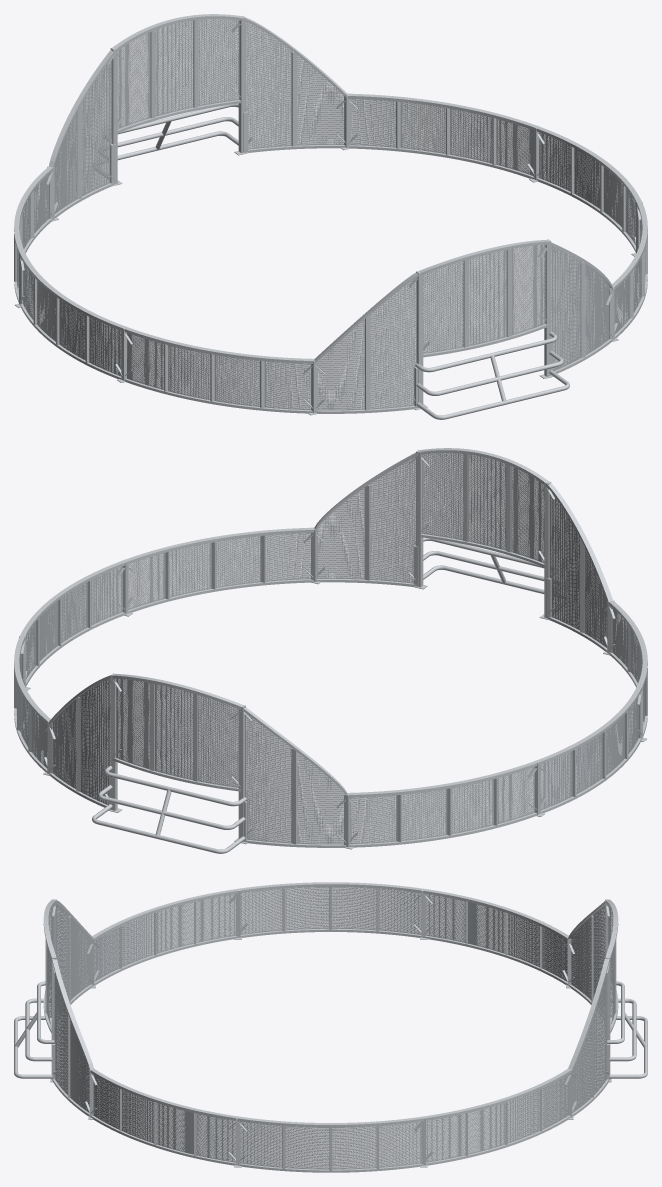
File: panna-kids-o1.glb
3 views of the same model, one above another, from view 1: azimuth 30°, elevation 25°; view 2: azimuth 150°, elevation 25°; view 3: azimuth 270°, elevation 25° (orthographic). The views are drawn at different scales.
Parts seen in each view (by area): view 1: PO3 0 blacha, PO3 3.141592653589793 blacha, PO2 3.141592653589793 1 blacha, PO2 0 1 blacha, PO1 3.141592653589793 0 blacha, PO1 0 0 blacha, PO2 3.141592653589793 -1 blacha, PO2 0 -1 blacha, PO1 0 1 blacha, PO1 3.141592653589793 1 blacha, PO1 0 2 blacha, PO1 3.141592653589793 2 blacha (+25 smaller); view 2: PO3 3.141592653589793 blacha, PO3 0 blacha, PO2 0 -1 blacha, PO2 3.141592653589793 -1 blacha, PO1 3.141592653589793 2 blacha, PO1 0 2 blacha, PO2 0 1 blacha, PO2 3.141592653589793 1 blacha, PO1 0 1 blacha, PO1 3.141592653589793 1 blacha, PO1 0 0 blacha, PO1 3.141592653589793 0 blacha (+25 smaller); view 3: PO1 0 1 blacha, PO1 3.141592653589793 1 blacha, PO1 0 2 blacha, PO1 0 0 blacha, PO1 3.141592653589793 2 blacha, PO1 3.141592653589793 0 blacha, PO2 3.141592653589793 -1 blacha, PO2 0 1 blacha, PO2 0 -1 blacha, PO2 3.141592653589793 1 blacha, PO1 0 1 profil gorny, PO1 3.141592653589793 1 profil gorny (+18 smaller).
Part boxes in pixels (left/top/right/bottom): PO3 0 blacha: left=117, top=15, right=239, bottom=128; PO3 3.141592653589793 blacha: left=423, top=244, right=545, bottom=353; PO2 3.141592653589793 1 blacha: left=318, top=275, right=416, bottom=410; PO2 0 1 blacha: left=246, top=21, right=344, bottom=149; PO1 3.141592653589793 0 blacha: left=127, top=333, right=311, bottom=410; PO1 0 0 blacha: left=351, top=95, right=533, bottom=175; PO2 3.141592653589793 -1 blacha: left=551, top=245, right=609, bottom=370; PO2 0 -1 blacha: left=54, top=60, right=112, bottom=213; PO1 0 1 blacha: left=539, top=132, right=638, bottom=245; PO1 3.141592653589793 1 blacha: left=23, top=263, right=121, bottom=376; PO1 0 2 blacha: left=614, top=218, right=645, bottom=334; PO1 3.141592653589793 2 blacha: left=16, top=169, right=49, bottom=291; PO3 3.141592653589793 blacha: left=422, top=453, right=545, bottom=562; PO3 0 blacha: left=116, top=674, right=238, bottom=787; PO2 0 -1 blacha: left=245, top=714, right=344, bottom=844; PO2 3.141592653589793 -1 blacha: left=317, top=457, right=415, bottom=583; PO1 3.141592653589793 2 blacha: left=350, top=767, right=534, bottom=844; PO1 0 2 blacha: left=128, top=530, right=310, bottom=609; PO2 0 1 blacha: left=52, top=679, right=110, bottom=804; PO2 3.141592653589793 1 blacha: left=549, top=485, right=610, bottom=647; PO1 0 1 blacha: left=24, top=566, right=122, bottom=679; PO1 3.141592653589793 1 blacha: left=540, top=697, right=638, bottom=810; PO1 0 0 blacha: left=16, top=647, right=47, bottom=768; PO1 3.141592653589793 0 blacha: left=612, top=602, right=645, bottom=725; PO1 0 1 blacha: left=240, top=1120, right=421, bottom=1169; PO1 3.141592653589793 1 blacha: left=240, top=883, right=421, bottom=934; PO1 0 2 blacha: left=93, top=1075, right=235, bottom=1162; PO1 0 0 blacha: left=426, top=1075, right=568, bottom=1162; PO1 3.141592653589793 2 blacha: left=426, top=894, right=567, bottom=981; PO1 3.141592653589793 0 blacha: left=94, top=894, right=235, bottom=981; PO2 3.141592653589793 -1 blacha: left=54, top=973, right=89, bottom=1112; PO2 0 1 blacha: left=570, top=973, right=607, bottom=1112; PO2 0 -1 blacha: left=571, top=906, right=605, bottom=1011; PO2 3.141592653589793 1 blacha: left=56, top=904, right=90, bottom=1012; PO1 0 1 profil gorny: left=237, top=1116, right=424, bottom=1127; PO1 3.141592653589793 1 profil gorny: left=238, top=882, right=423, bottom=892.
Bounding box in the file's own units: 6 × 1.52 × 6.62.
5 materials, 1 textured.
